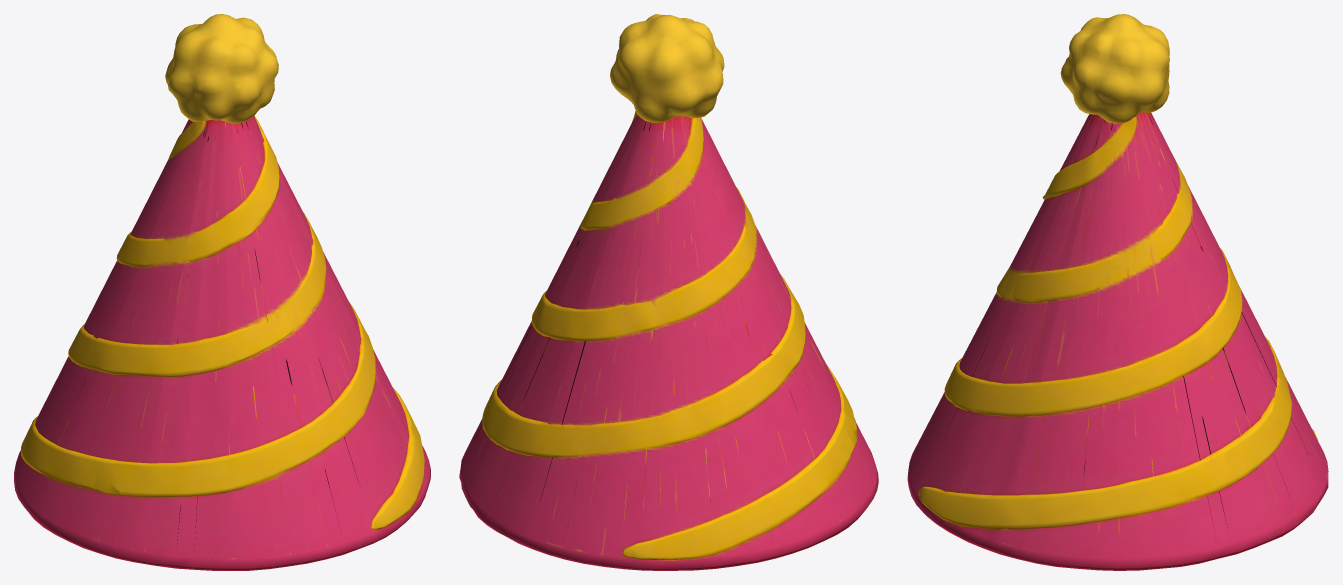
The model's file is hat_party.glb.
3 renders of one model, left to right at view 1: azimuth 30°, elevation 25°; view 2: azimuth 150°, elevation 25°; view 3: azimuth 270°, elevation 25°, orthographic.
Visible parts, largest first — view 1: geometry_0; view 2: geometry_0; view 3: geometry_0.
Part boxes in pixels (x1,y1,x2,y2): geometry_0: (14, 14, 430, 570); geometry_0: (459, 14, 878, 570); geometry_0: (907, 14, 1328, 570).
Bounding box in the file's own units: 0.7686 × 0.9487 × 0.772.
1 material, 1 textured.
